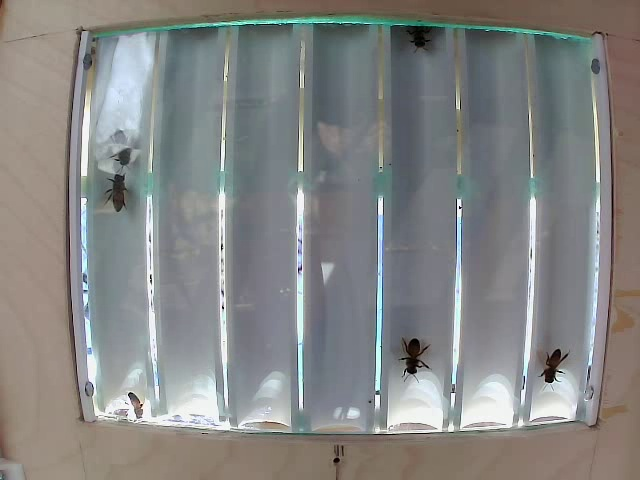bee: (394, 328, 425, 375), (100, 167, 132, 208), (536, 351, 567, 382)
